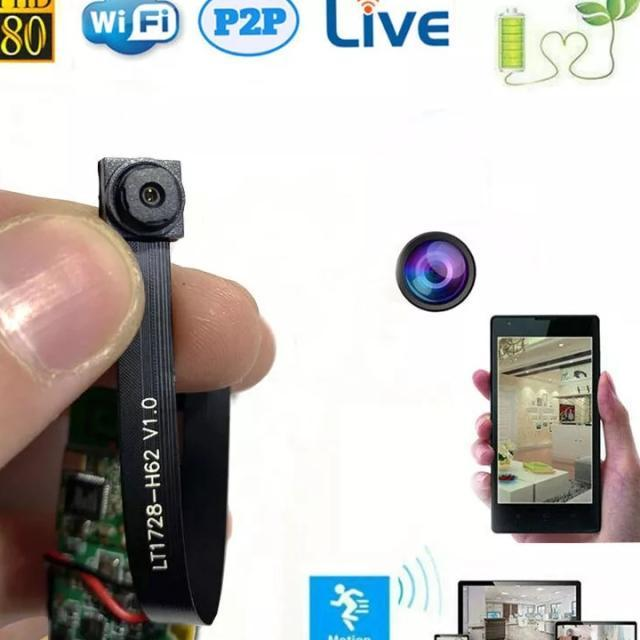hidden camera: (122, 168, 181, 223)
